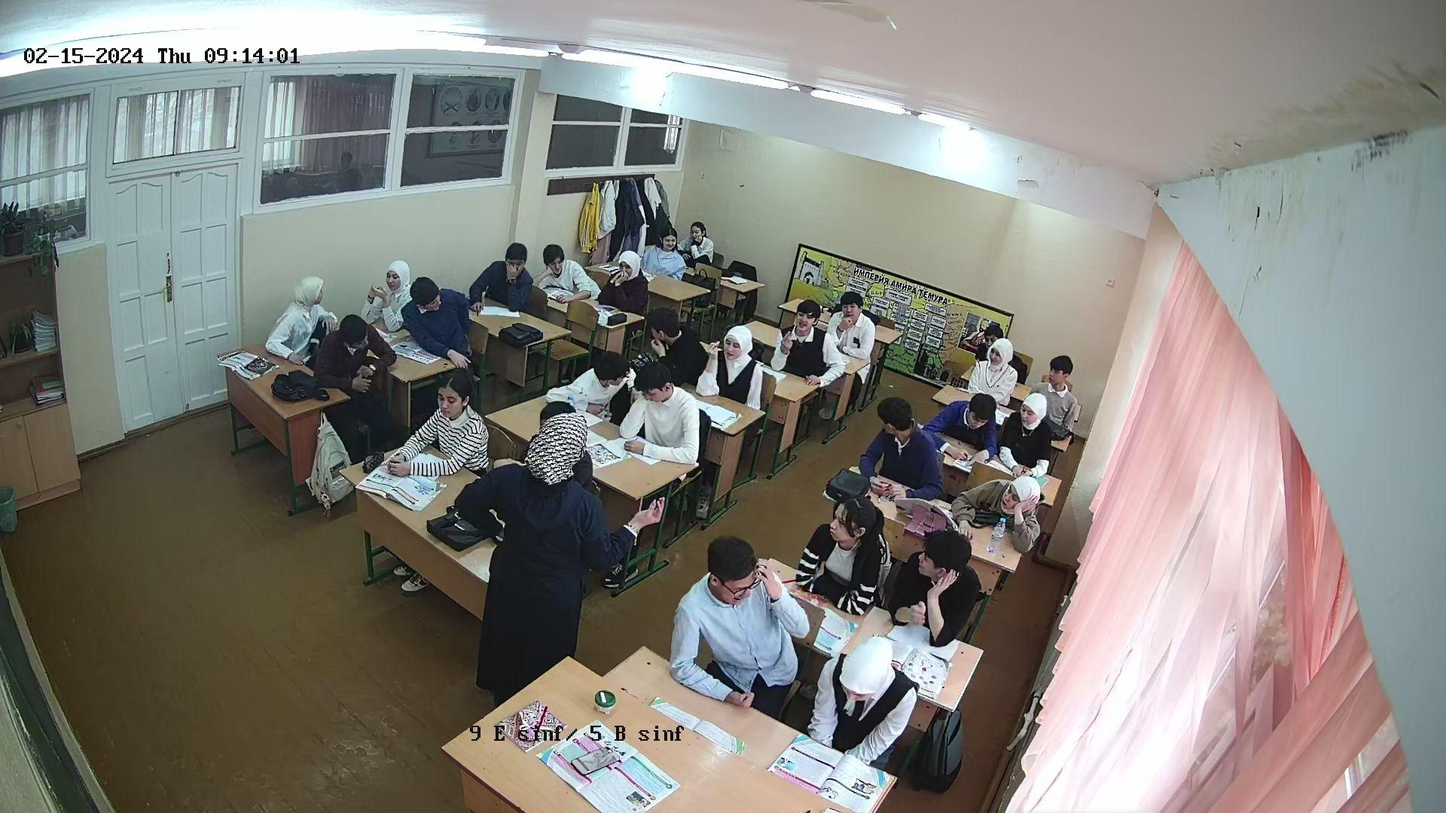Bend Over The Desk: (535, 245, 593, 304)
Hand Under Table: (814, 694, 840, 760)
Look Around: (868, 391, 936, 494), (701, 532, 776, 621), (814, 494, 882, 565), (327, 315, 394, 382), (641, 304, 702, 375), (577, 351, 631, 408), (496, 240, 532, 287), (650, 224, 682, 276)
Normal: (413, 371, 469, 473)
Stand Up: (473, 423, 605, 684)
Wave: (927, 574, 959, 651)
